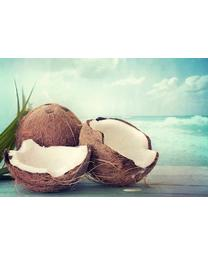coconut: (76, 116, 160, 190), (10, 141, 91, 194), (12, 101, 82, 152)
